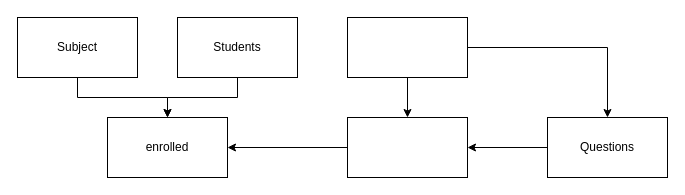
This 685x195 diagram has some shape labels left out. Each missing label, with the box of its shape:
Exam: (346, 116, 468, 178)
Professor: (346, 16, 468, 78)
